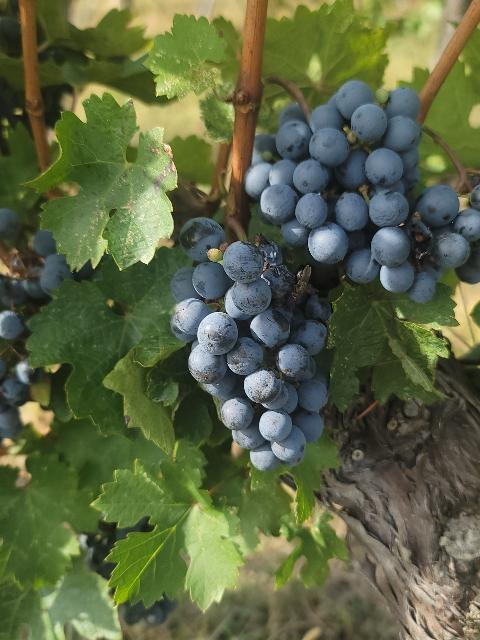grapes: (245, 80, 480, 301), (170, 218, 332, 471)
